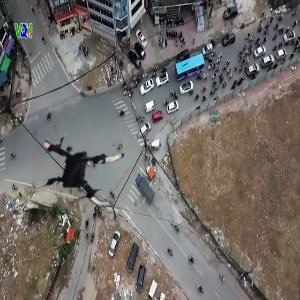drone: (28, 119, 128, 219)
